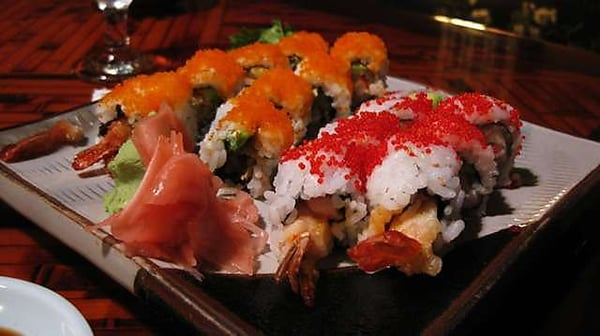sushi: (0, 275, 94, 333)
